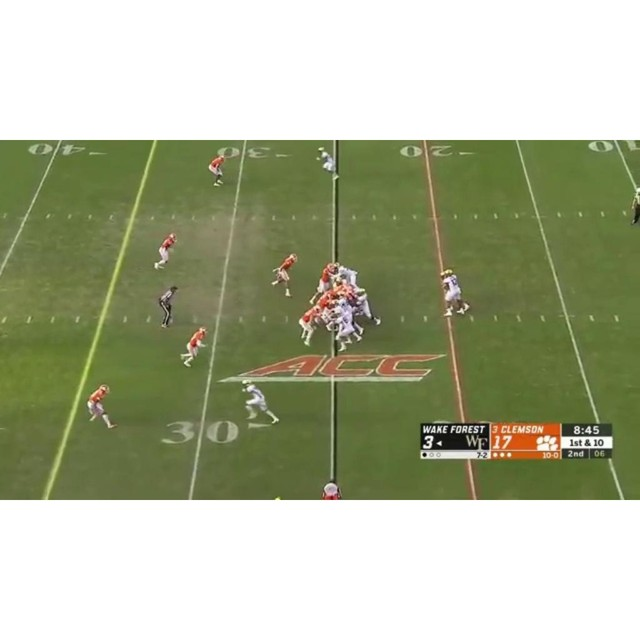american-football-player: (241, 378, 280, 424), (439, 268, 470, 317), (87, 384, 117, 429), (271, 253, 298, 298), (298, 303, 324, 348), (309, 262, 336, 305), (353, 287, 381, 326), (181, 326, 207, 368), (316, 146, 340, 182), (154, 233, 177, 270), (208, 154, 227, 187), (335, 262, 359, 288)
referee: (158, 284, 178, 329), (631, 189, 640, 227)
